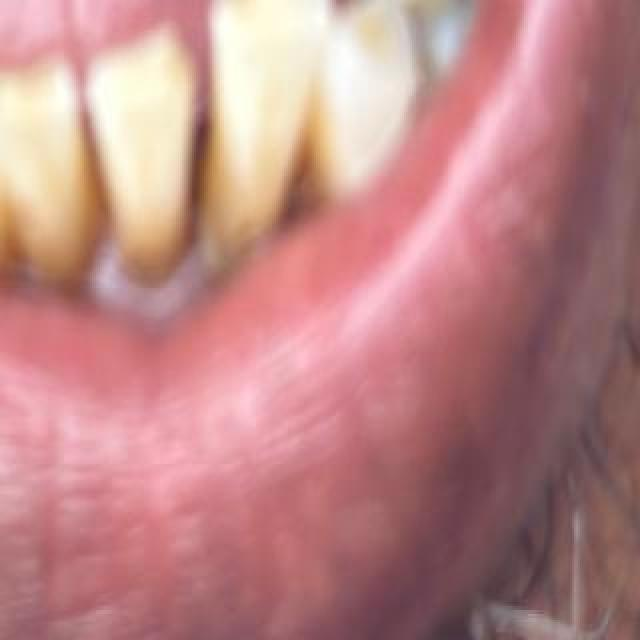maligned: (192, 0, 330, 284), (316, 0, 420, 232), (0, 96, 10, 316)
